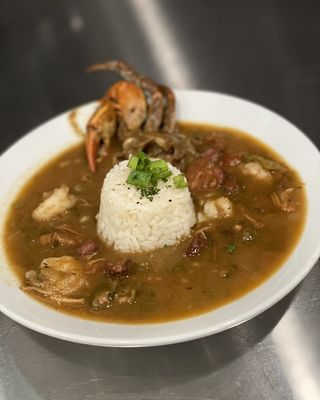sushi: (0, 69, 320, 347)
